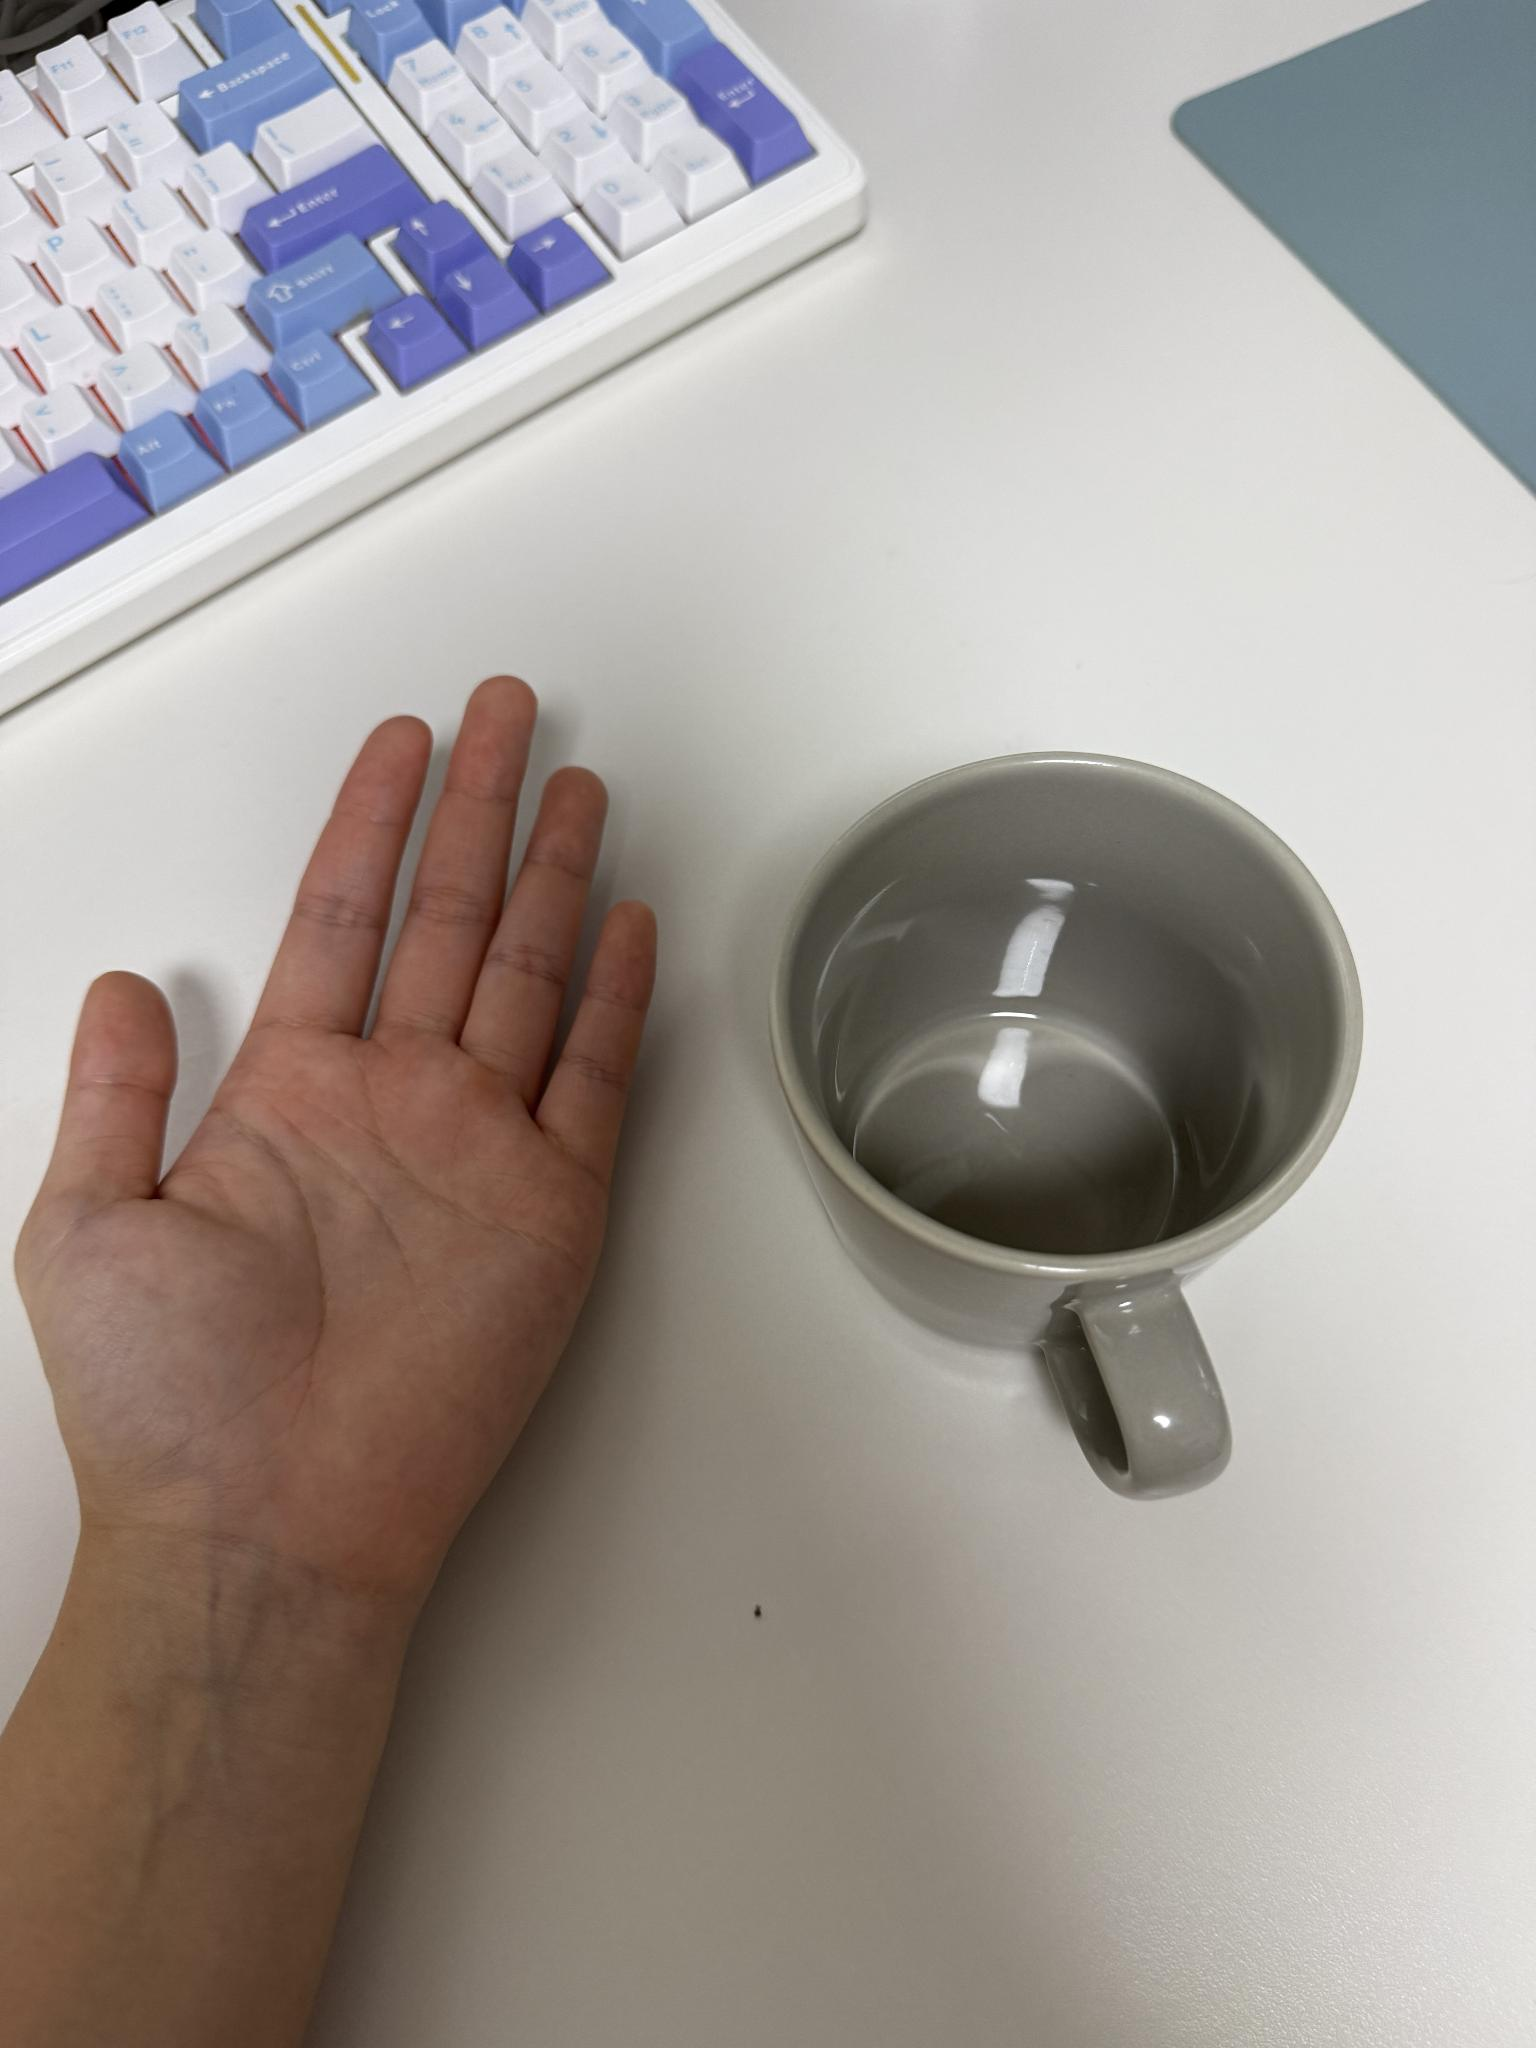open: (6, 661, 695, 1675)
